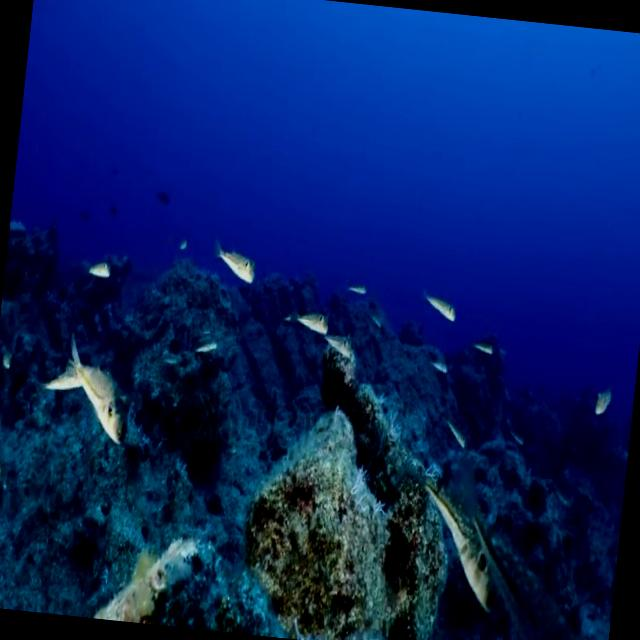Balon Baligi: (408, 474, 512, 620), (49, 330, 141, 451), (204, 230, 262, 283), (416, 280, 458, 322), (286, 298, 328, 331), (316, 327, 357, 357)
